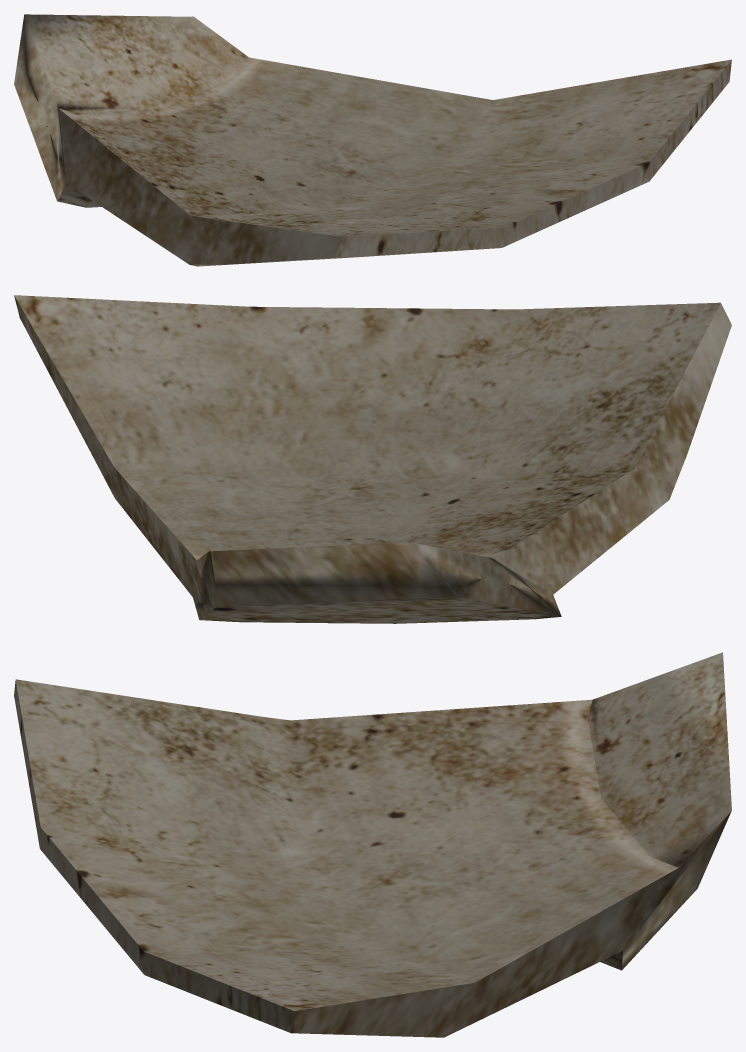
Rendered from PlateDeepShardD.fbx.
3 renders of one model, top to bottom at view 1: azimuth 30°, elevation 25°; view 2: azimuth 150°, elevation 25°; view 3: azimuth 270°, elevation 25°, orthographic. The views are drawn at different scales.
Parts seen in each view (by area): view 1: Default_Layer; view 2: Default_Layer; view 3: Default_Layer.
Part boxes in pixels (bbox=[...]): Default_Layer: bbox=[14, 14, 731, 266]; Default_Layer: bbox=[14, 295, 731, 623]; Default_Layer: bbox=[14, 652, 731, 1037].
Size of the model in its own units: 36.08 by 9.47 by 32.47.
